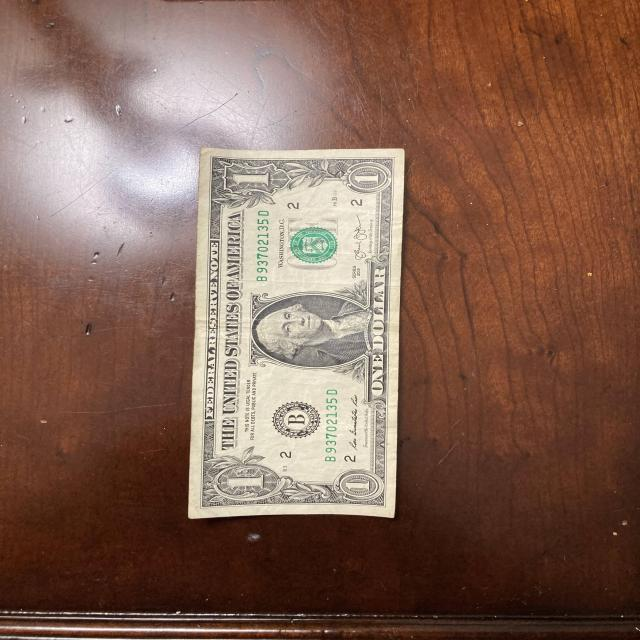one: (186, 148, 407, 520)
